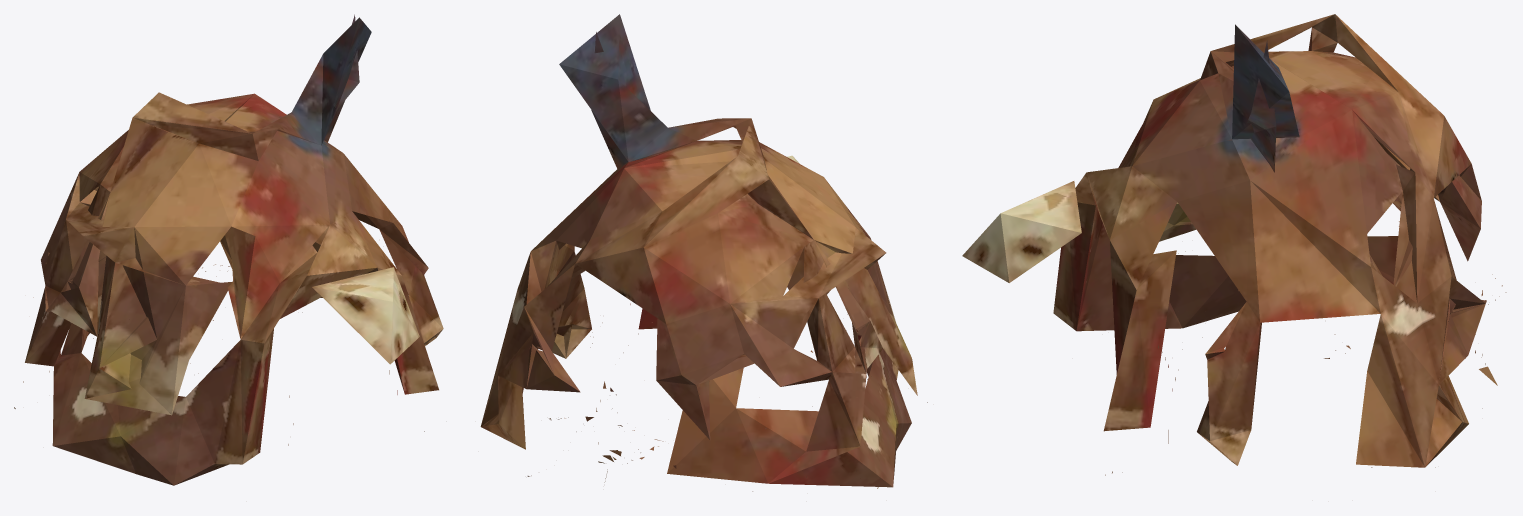
File: goblin-hut.glb
The picture shows the model from 3 angles, left to right: view 1: azimuth 30°, elevation 25°; view 2: azimuth 150°, elevation 25°; view 3: azimuth 270°, elevation 25°; orthographic projection. The views are drawn at different scales.
Visible parts, largest first — view 1: goblin-hut; view 2: goblin-hut; view 3: goblin-hut.
Part boxes in pixels (box(x1,y1,x2,y2)): goblin-hut: box(14, 14, 443, 485); goblin-hut: box(480, 14, 927, 491); goblin-hut: box(962, 14, 1506, 475).
Bounding box in the file's own units: 3.42 × 3.27 × 3.64.
Materials: 1 (1 with a texture image).
